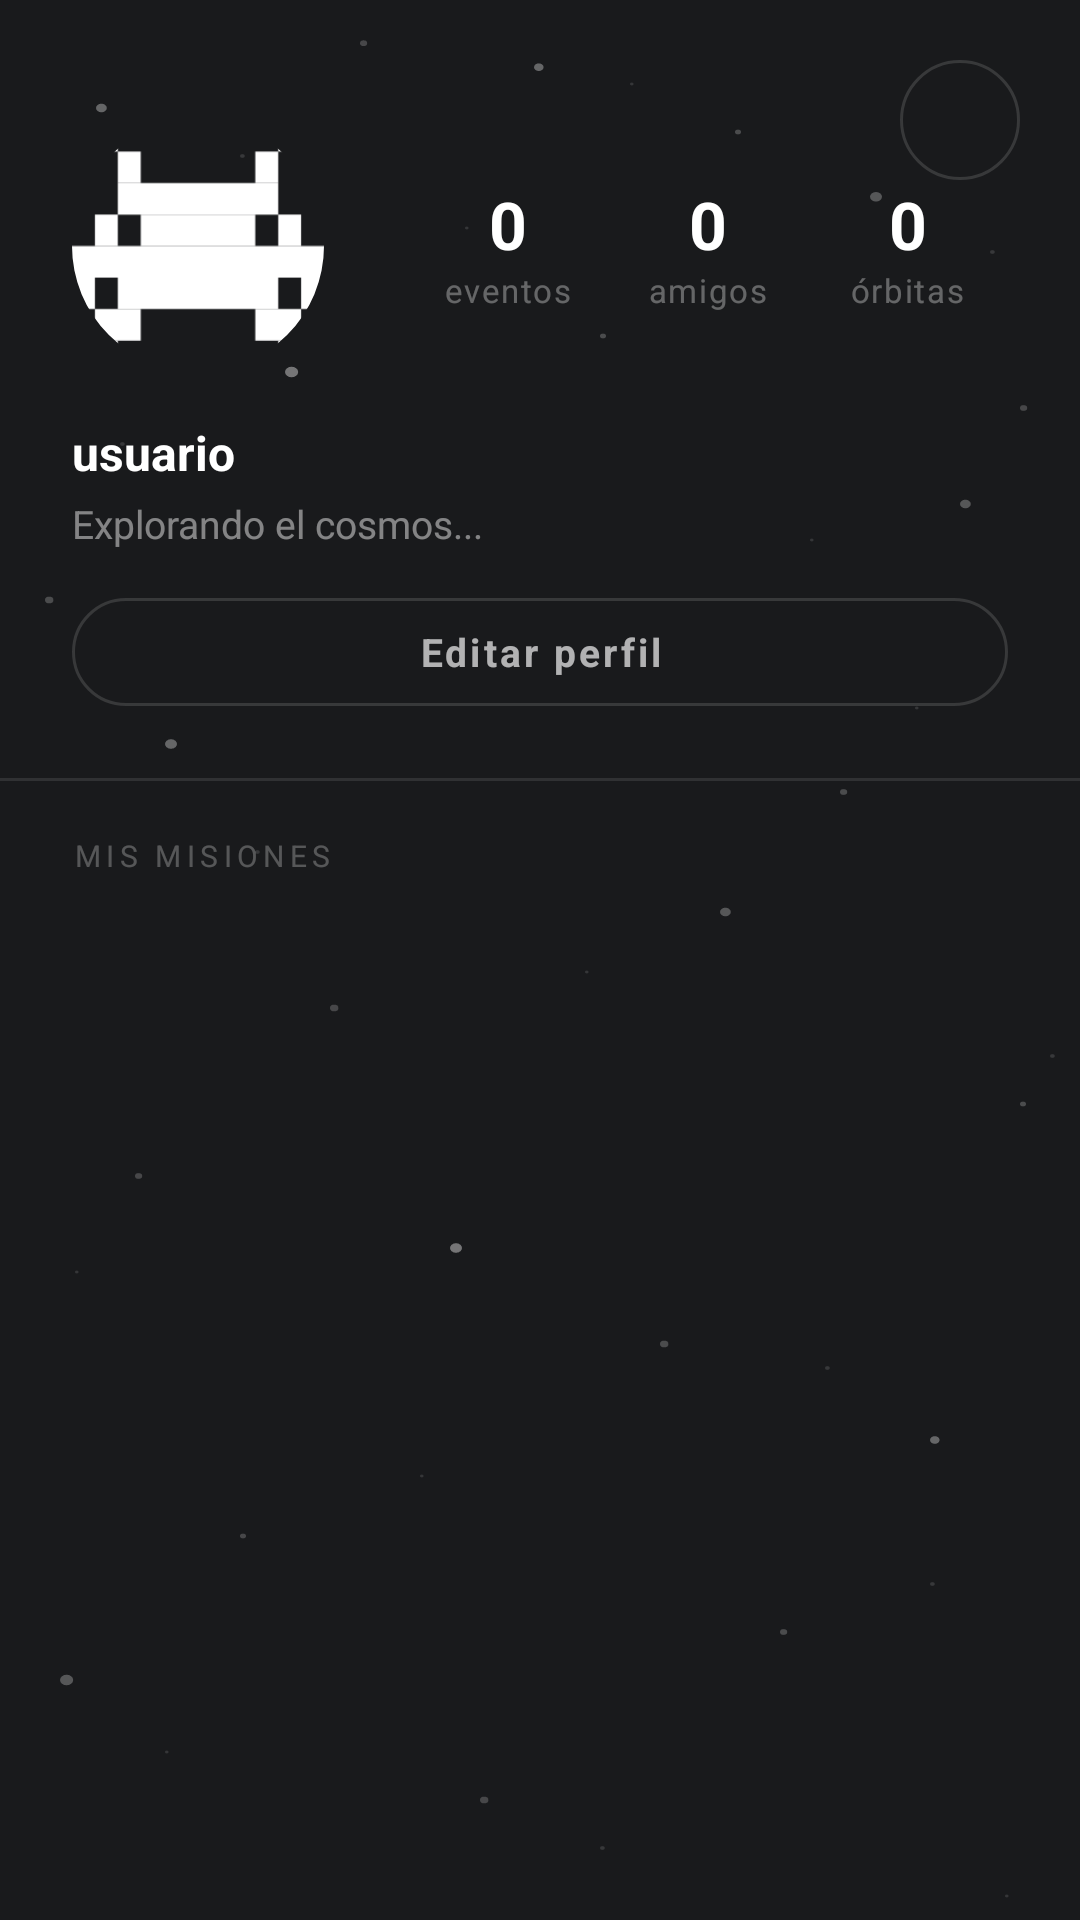

Named icons in this screenshot (1080*1920) and their bounding boxes, (left=x1, top=y1, right=x2, bottom=y2):
cosmos critter: (left=72, top=149, right=324, bottom=372)
